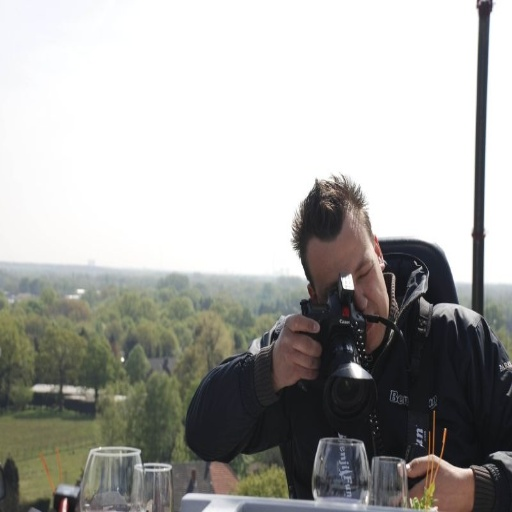hand: (265, 303, 335, 395), (389, 448, 471, 511)
